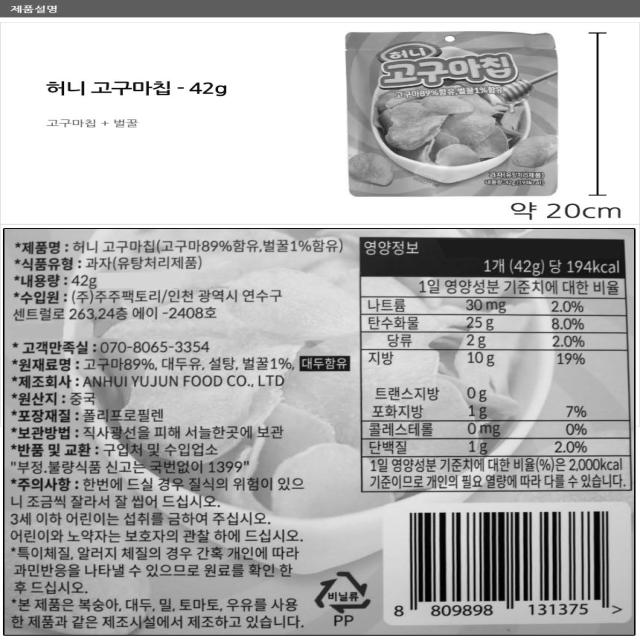Nutrition Label: (348, 231, 640, 496)
